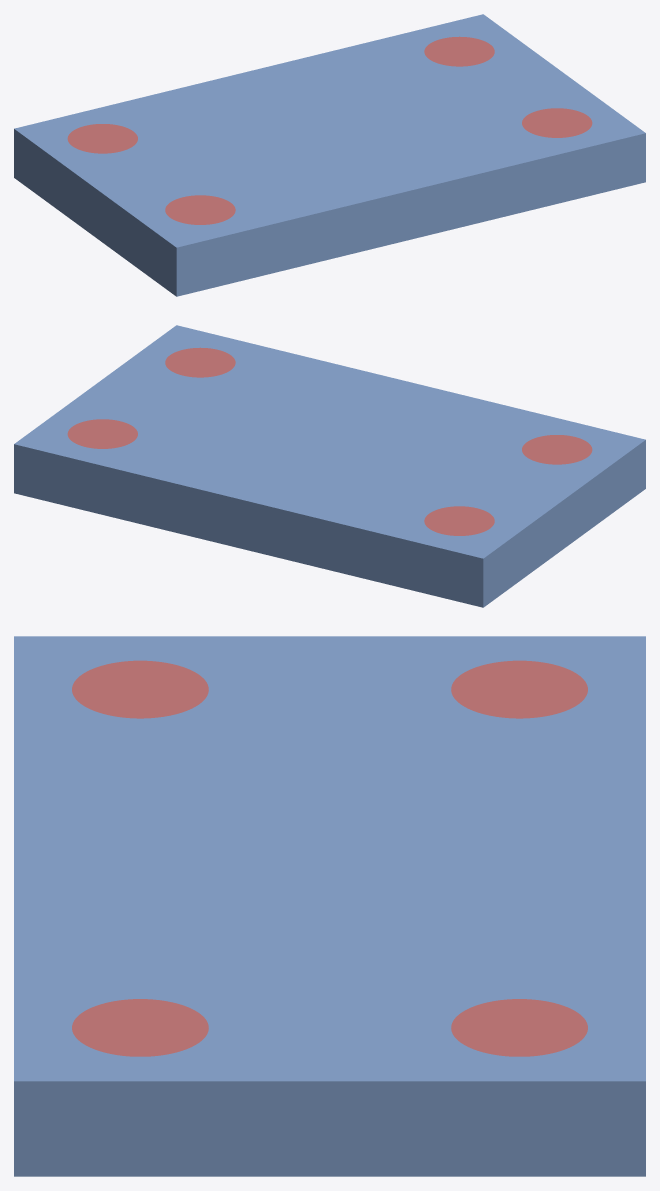
Rendered from step_04.glb.
The picture shows the model from 3 angles, top to bottom: view 1: azimuth 30°, elevation 25°; view 2: azimuth 150°, elevation 25°; view 3: azimuth 270°, elevation 25°; orthographic projection. The views are drawn at different scales.
Parts seen in each view (by area): view 1: part__annotation plate, removed__annotation plate; view 2: part__annotation plate, removed__annotation plate; view 3: part__annotation plate, removed__annotation plate.
Part boxes in pixels (x1,y1,x2,y2): part__annotation plate: [14, 14, 645, 296]; removed__annotation plate: [67, 36, 592, 224]; part__annotation plate: [14, 325, 645, 607]; removed__annotation plate: [67, 347, 592, 535]; part__annotation plate: [14, 636, 645, 1176]; removed__annotation plate: [72, 660, 587, 1056].
Bounding box in the file's own units: 100 × 10 × 60.
